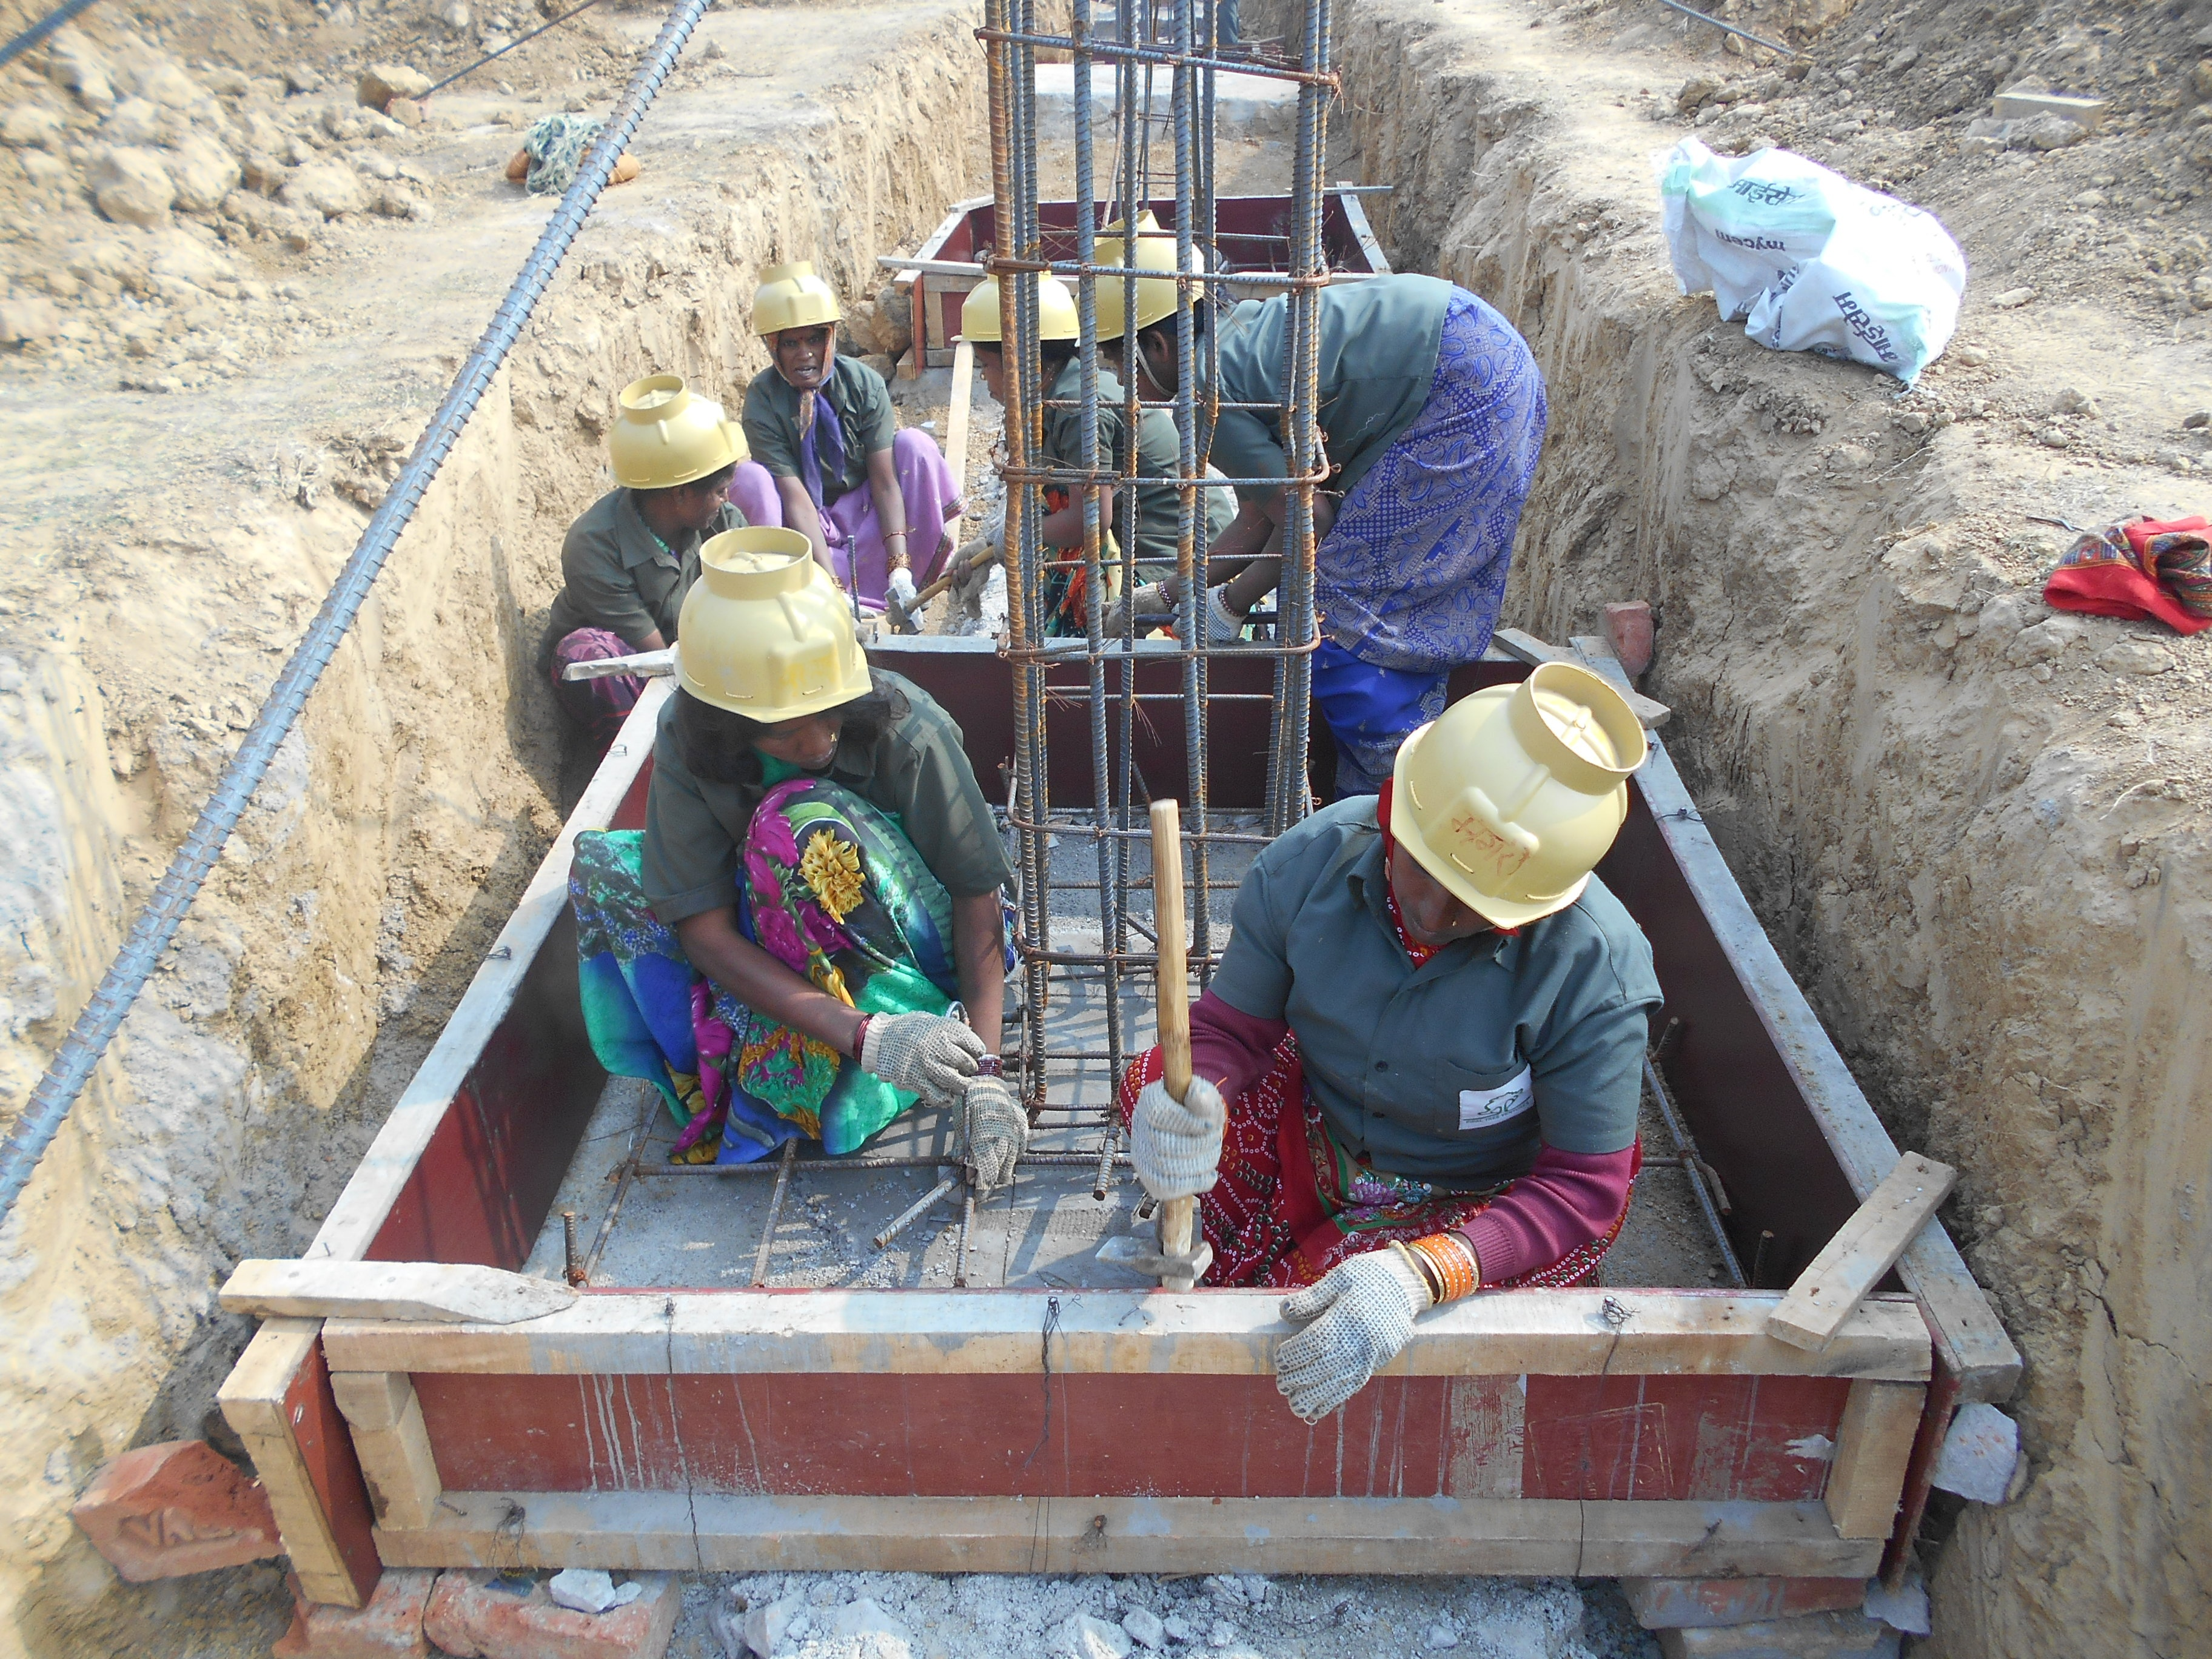yellow: (1376, 669, 1616, 953), (681, 516, 859, 772), (1071, 220, 1226, 401), (615, 369, 738, 526), (956, 254, 1078, 397), (749, 256, 840, 383)
